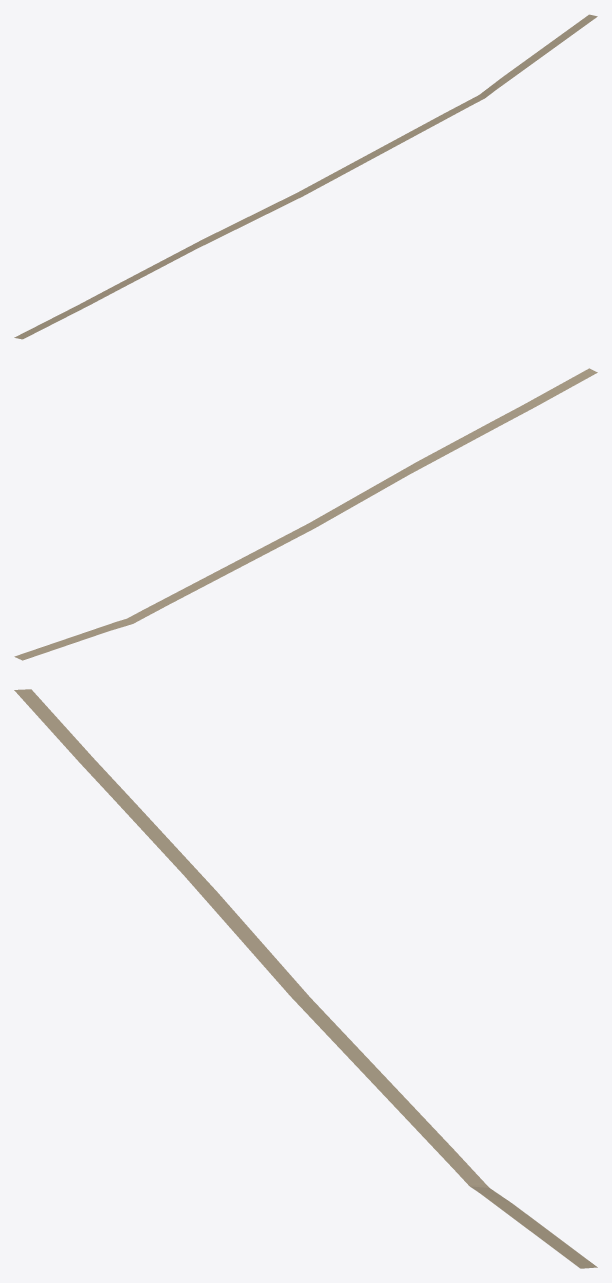
The model's file is farm_-3_-4_track.glb.
3 renders of one model, top to bottom at view 1: azimuth 30°, elevation 25°; view 2: azimuth 210°, elevation 25°; view 3: azimuth 270°, elevation 25°, orthographic. The views are drawn at different scales.
Parts seen in each view (by area): view 1: geometry_0; view 2: geometry_0; view 3: geometry_0.
Boxes of the visible parts, x1,y1,x2,y2 form: geometry_0: (14, 14, 597, 339); geometry_0: (14, 368, 597, 660); geometry_0: (14, 689, 597, 1268).
Size of the model in its own units: 254 by 7.79 by 103.
